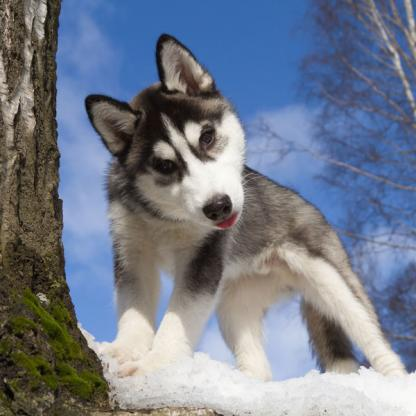husky: (85, 35, 407, 387)
